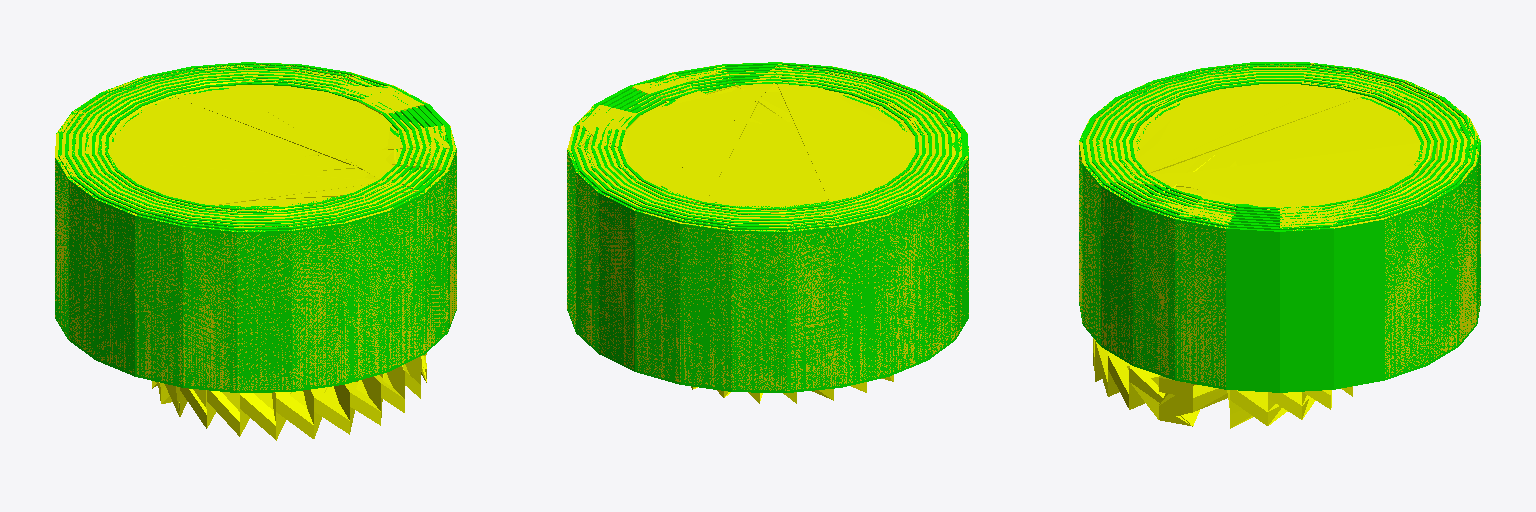
Rendered from Tape.obj.
The picture shows the model from 3 angles: view 1: azimuth 30°, elevation 25°; view 2: azimuth 150°, elevation 25°; view 3: azimuth 270°, elevation 25°; orthographic projection.
Visible parts, largest first — view 1: Cylinder006, Cylinder009; view 2: Cylinder006, Cylinder009; view 3: Cylinder006, Cylinder009.
Part boxes in pixels (left/top/right/bottom): Cylinder006: left=55, top=62, right=456, bottom=392; Cylinder009: left=55, top=63, right=456, bottom=440; Cylinder006: left=567, top=62, right=968, bottom=392; Cylinder009: left=567, top=62, right=968, bottom=403; Cylinder006: left=1079, top=62, right=1480, bottom=392; Cylinder009: left=1079, top=63, right=1480, bottom=428.
Bounding box in the file's own units: 158537 × 96222 × 158907.